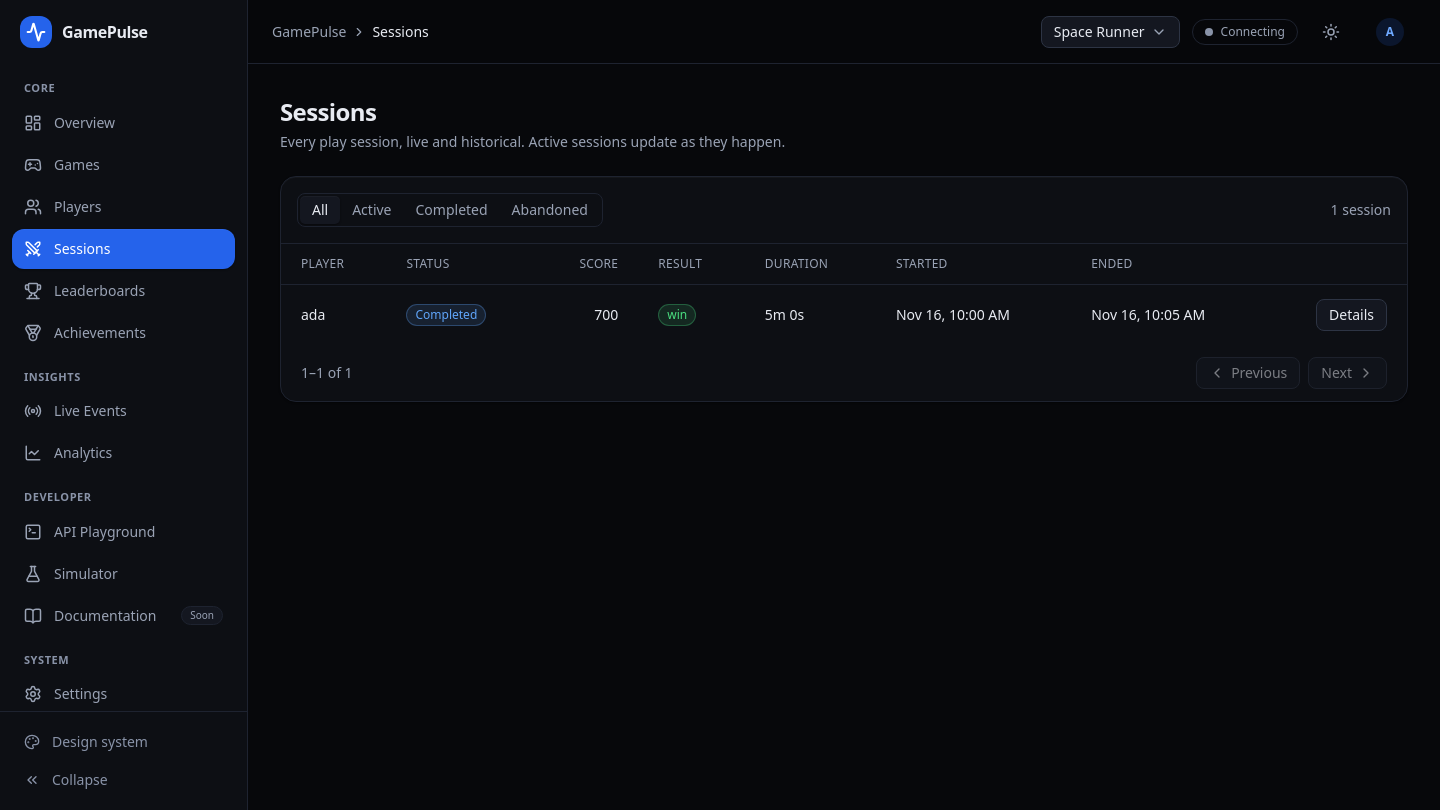
Test case: Sessions page › filters by status
Expected: the link "ada" is shown, [301,305,325,325]
Click the radio button labelled "Active" at [372, 210], box [340,196,404,224]
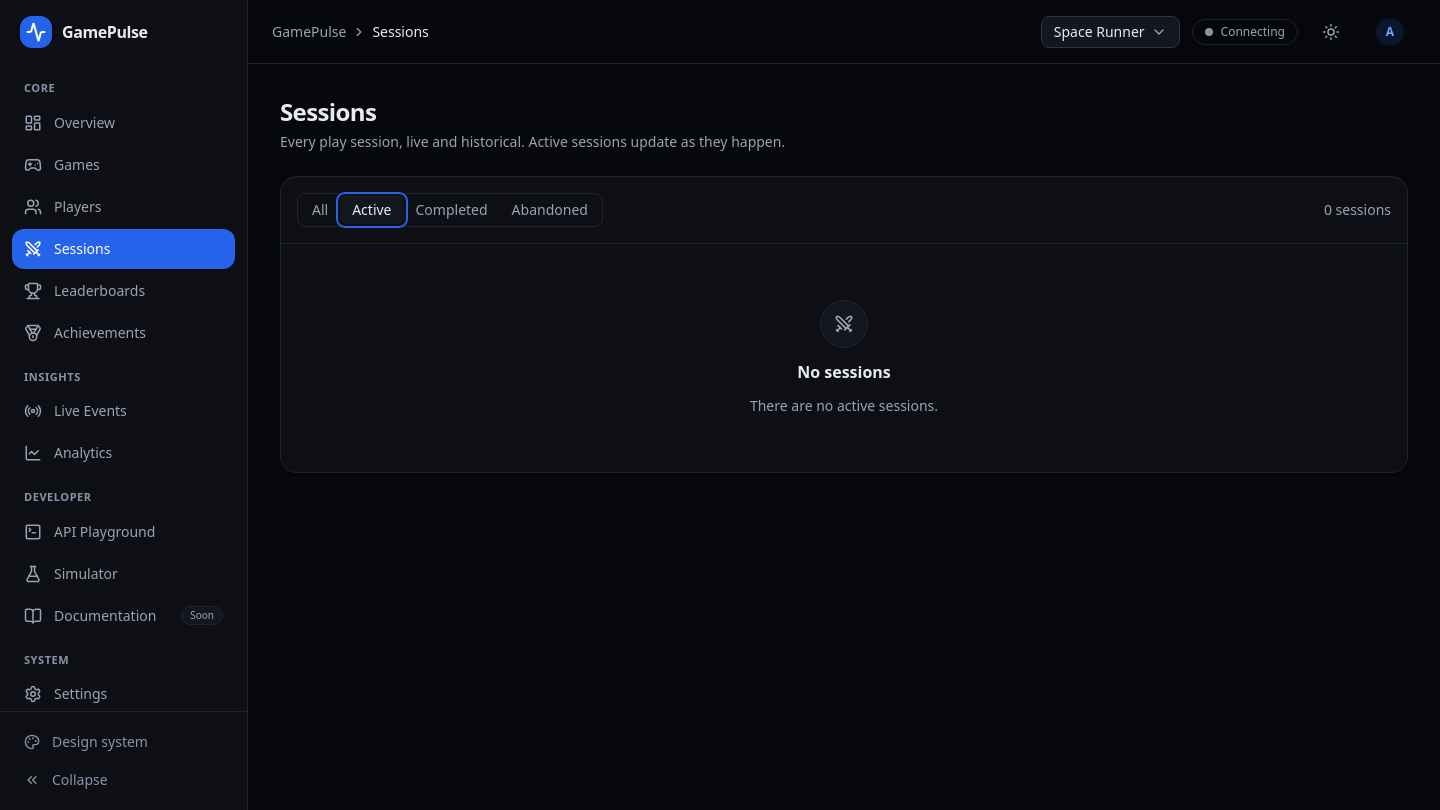
Expected: the text "There are no active sessions." is shown, [750,396,938,416]
